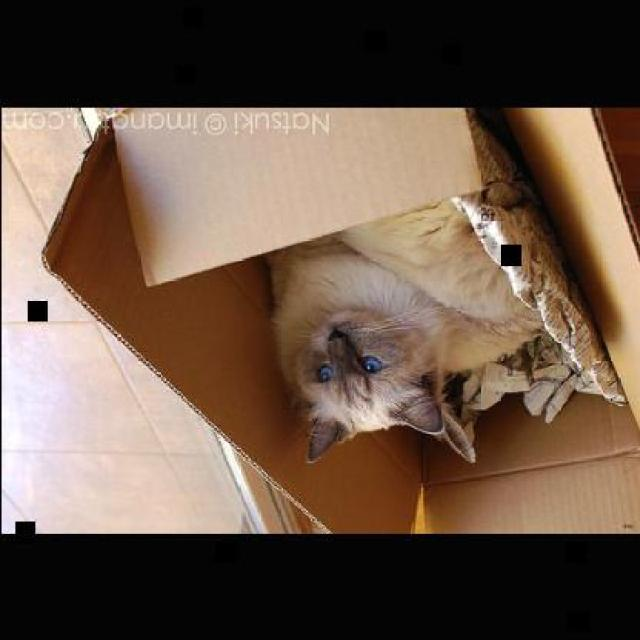unauthorized: (262, 229, 544, 466)
